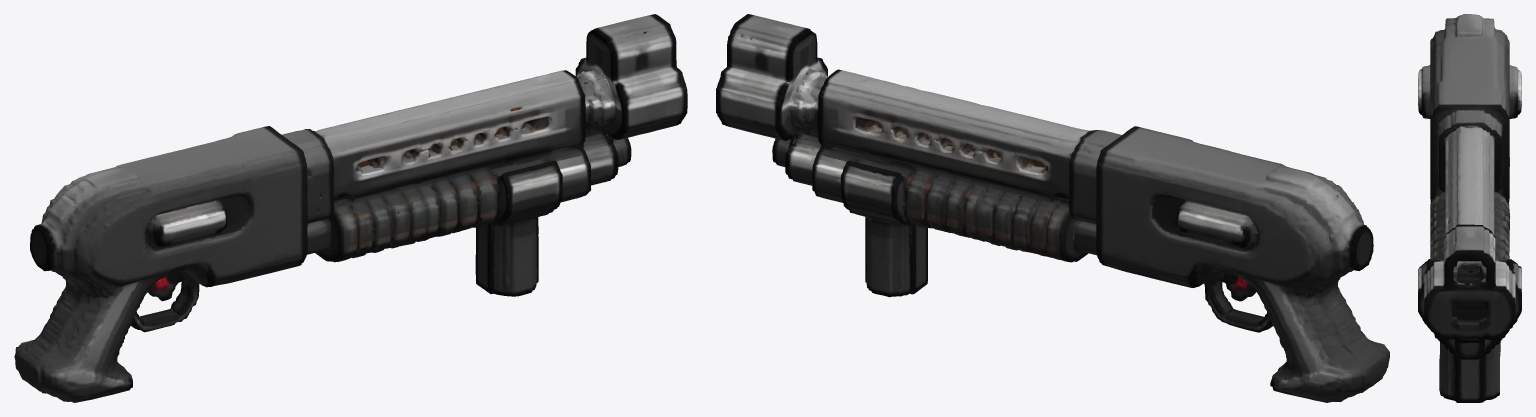
File: SHOTA0_2026-08-07T002730.162.glb
The picture shows the model from 3 angles, left to right: view 1: azimuth 30°, elevation 25°; view 2: azimuth 150°, elevation 25°; view 3: azimuth 270°, elevation 25°; orthographic projection. The views are drawn at different scales.
Visible parts, largest first — view 1: world; view 2: world; view 3: world.
Boxes of the visible parts, <box> form: world: <box>14,14,687,402</box>; world: <box>716,14,1389,402</box>; world: <box>1418,14,1521,402</box>.
Size of the model in its own units: 1 by 0.3418 by 0.1531.
Materials: 1 (1 with a texture image).
